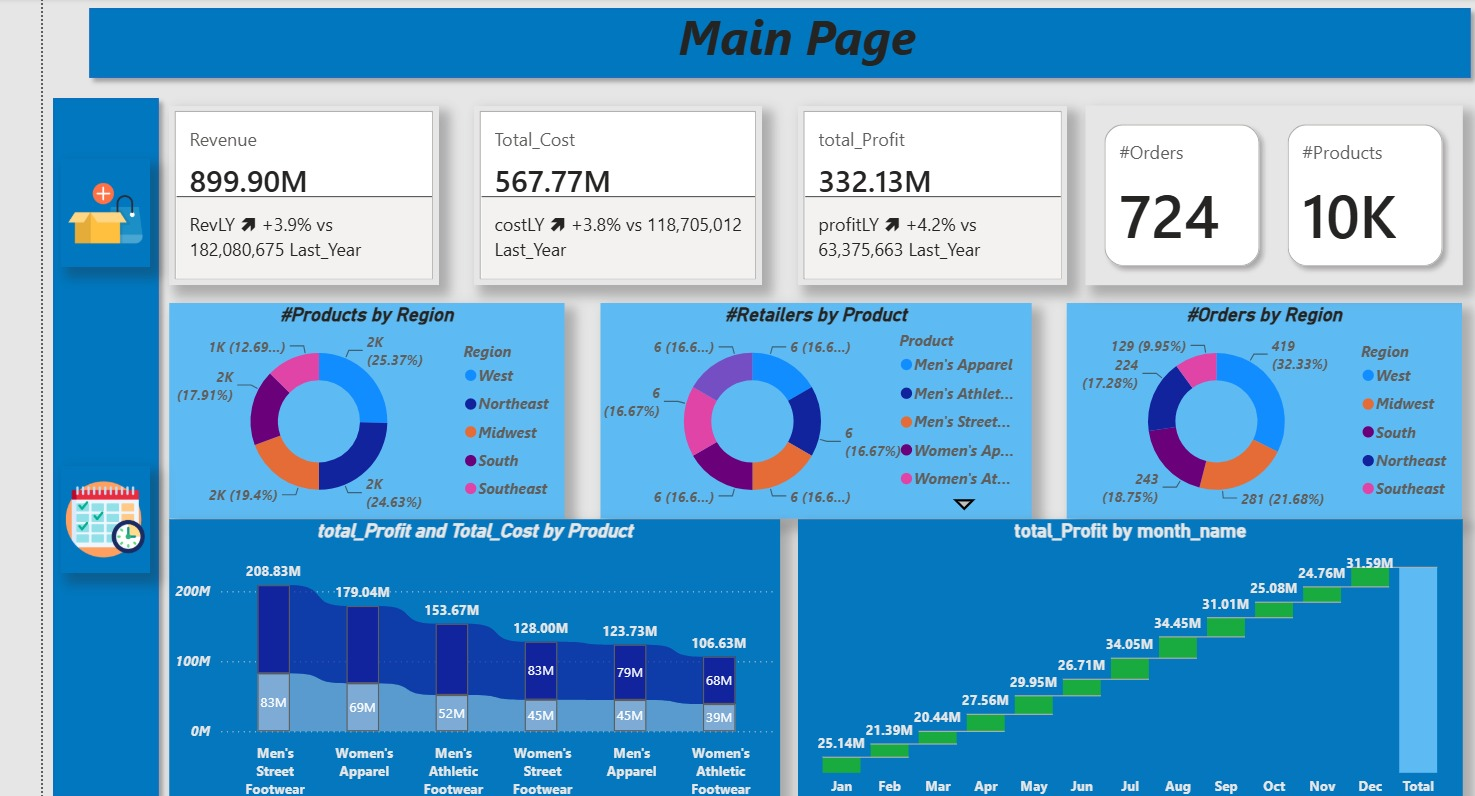

The dashboard page shown, as its layout file describes it:
{"tool":"powerbi","page":{"name":"MainPage","canvas":[1280,720],"ordinal":0},"visuals":[{"type":"shape","box":[32,0,1248,80],"z":0},{"type":"textbox","box":[64,0,1216,80],"z":1000},{"type":"cardVisual","fields":{"Data":["Calculation Dax.Revenue"]},"box":[112,96,240,160],"z":2000},{"type":"cardVisual","fields":{"Data":["Calculation Dax.Total_Cost"]},"box":[384,96,256,160],"z":3000},{"type":"cardVisual","fields":{"Data":["Calculation Dax.total_Profit"]},"box":[672,96,240,160],"z":4000},{"type":"shape","box":[0,80,112,640],"z":5000},{"type":"donutChart","fields":{"Y":["Calculation Dax.#Products"],"Category":["Data Sales Adidas.Region"]},"box":[112,272,352,192],"z":6000},{"type":"donutChart","fields":{"Y":["Calculation Dax.#Retailers"],"Category":["Data Sales Adidas.Product"]},"box":[496,272,384,192],"z":7000},{"type":"donutChart","fields":{"Category":["Data Sales Adidas.Region"],"Y":["Calculation Dax.#Orders"]},"box":[912,272,352,192],"z":8000},{"type":"cardVisual","fields":{"Data":["Calculation Dax.#Orders","Calculation Dax.#Products"]},"box":[928,96,336,160],"z":9000},{"type":"ribbonChart","fields":{"Y":["Calculation Dax.total_Profit","Calculation Dax.Total_Cost"],"Category":["Data Sales Adidas.Product"]},"box":[112,464,544,256],"z":10000},{"type":"waterfallChart","fields":{"Category":["CalenderDate.month_name"],"Y":["Calculation Dax.total_Profit"]},"box":[672,464,592,256],"z":11000},{"type":"image","box":[16,144,80,96],"z":12000},{"type":"image","box":[16,416,80,96],"z":13000}]}

Visuals, with their boxes on the page's 1280x720 design canvas (x1, y1, x2, y2). These are canvas units, not pixel positions in the 1475x796 screenshot, which may show the page scaled, cropped or inside an application window:
shape: bbox=[32, 0, 1280, 80]
textbox: bbox=[64, 0, 1280, 80]
cardVisual - Calculation Dax.Revenue: bbox=[112, 96, 352, 256]
cardVisual - Calculation Dax.Total_Cost: bbox=[384, 96, 640, 256]
cardVisual - Calculation Dax.total_Profit: bbox=[672, 96, 912, 256]
shape: bbox=[0, 80, 112, 720]
donutChart - Calculation Dax.#Products x Data Sales Adidas.Region: bbox=[112, 272, 464, 464]
donutChart - Calculation Dax.#Retailers x Data Sales Adidas.Product: bbox=[496, 272, 880, 464]
donutChart - Data Sales Adidas.Region x Calculation Dax.#Orders: bbox=[912, 272, 1264, 464]
cardVisual - Calculation Dax.#Orders x Calculation Dax.#Products: bbox=[928, 96, 1264, 256]
ribbonChart - Calculation Dax.total_Profit x Calculation Dax.Total_Cost: bbox=[112, 464, 656, 720]
waterfallChart - CalenderDate.month_name x Calculation Dax.total_Profit: bbox=[672, 464, 1264, 720]
image: bbox=[16, 144, 96, 240]
image: bbox=[16, 416, 96, 512]
